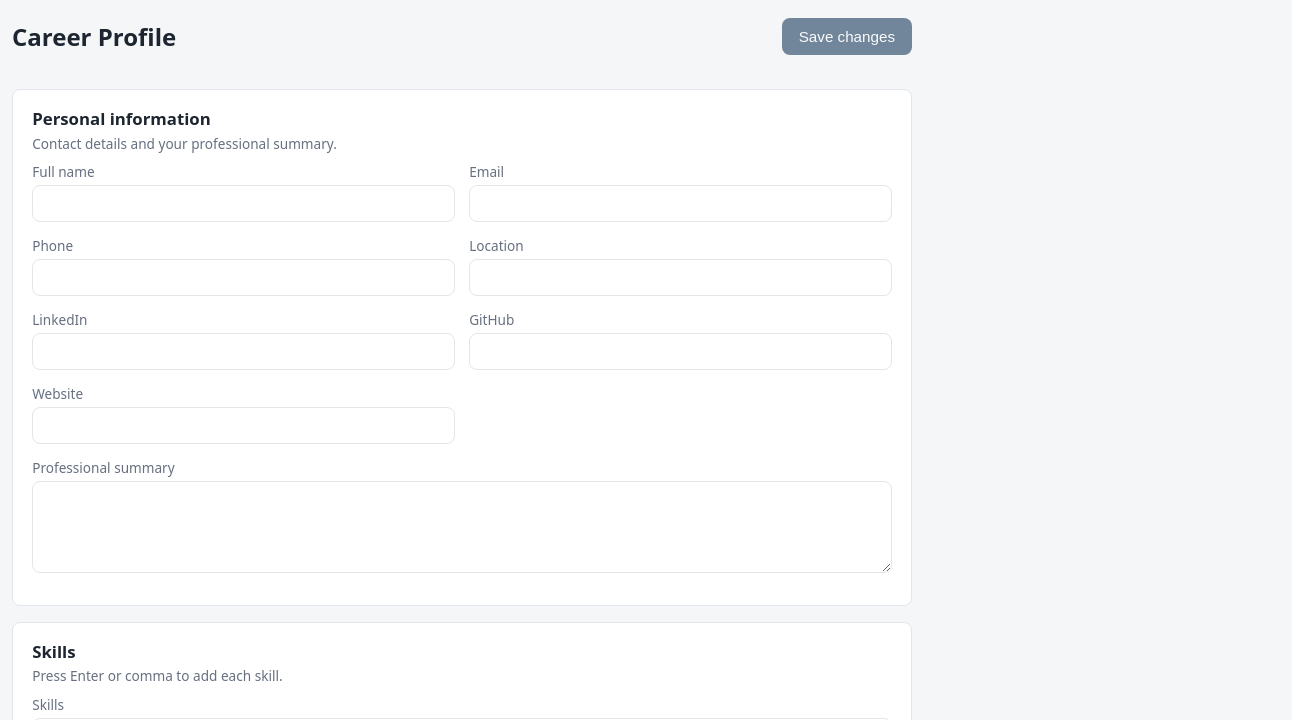
Test: <Profile /> › disables Save until something changes, then saves a cleaned payload
Expected: the heading "Career Profile" is shown, [12, 20, 176, 53]
Expected: the button "Save changes" is disabled, [782, 18, 912, 55]
Type "  Jane  " into the field labelled "Full name" at (244, 204), box [32, 185, 455, 222]
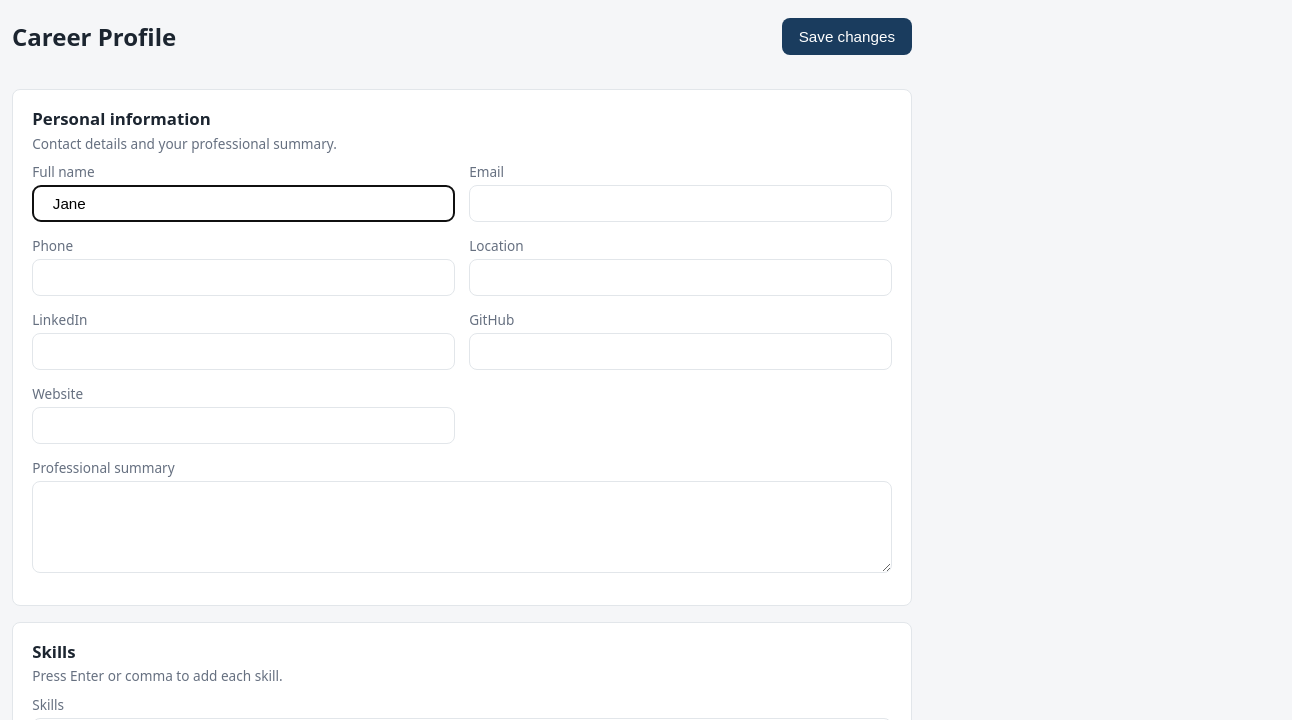
Now the button "Save changes" is enabled
Click the button "Save changes" at (847, 36), box [782, 18, 912, 55]
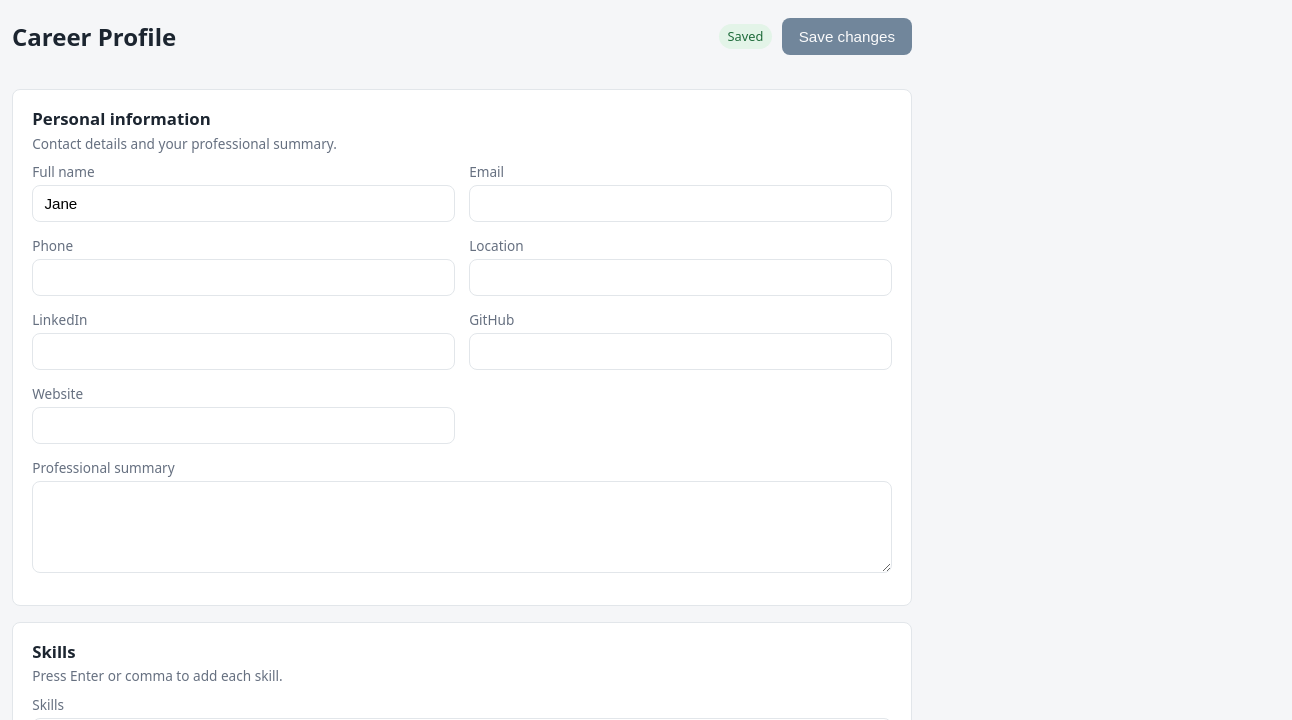
Now the text "Saved" is shown, box [719, 24, 772, 49]
